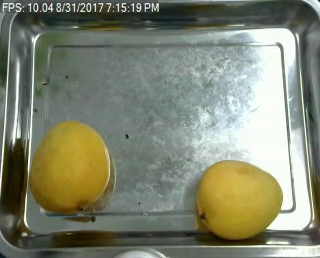Mango: (27, 118, 115, 216), (193, 158, 286, 239)
